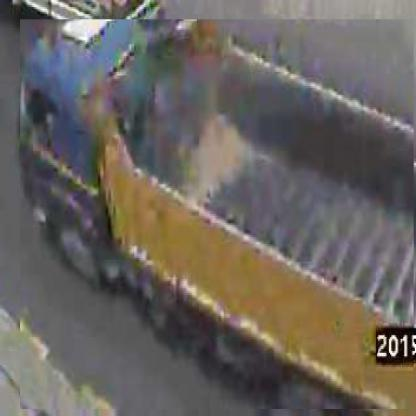truck: (21, 20, 416, 412)
